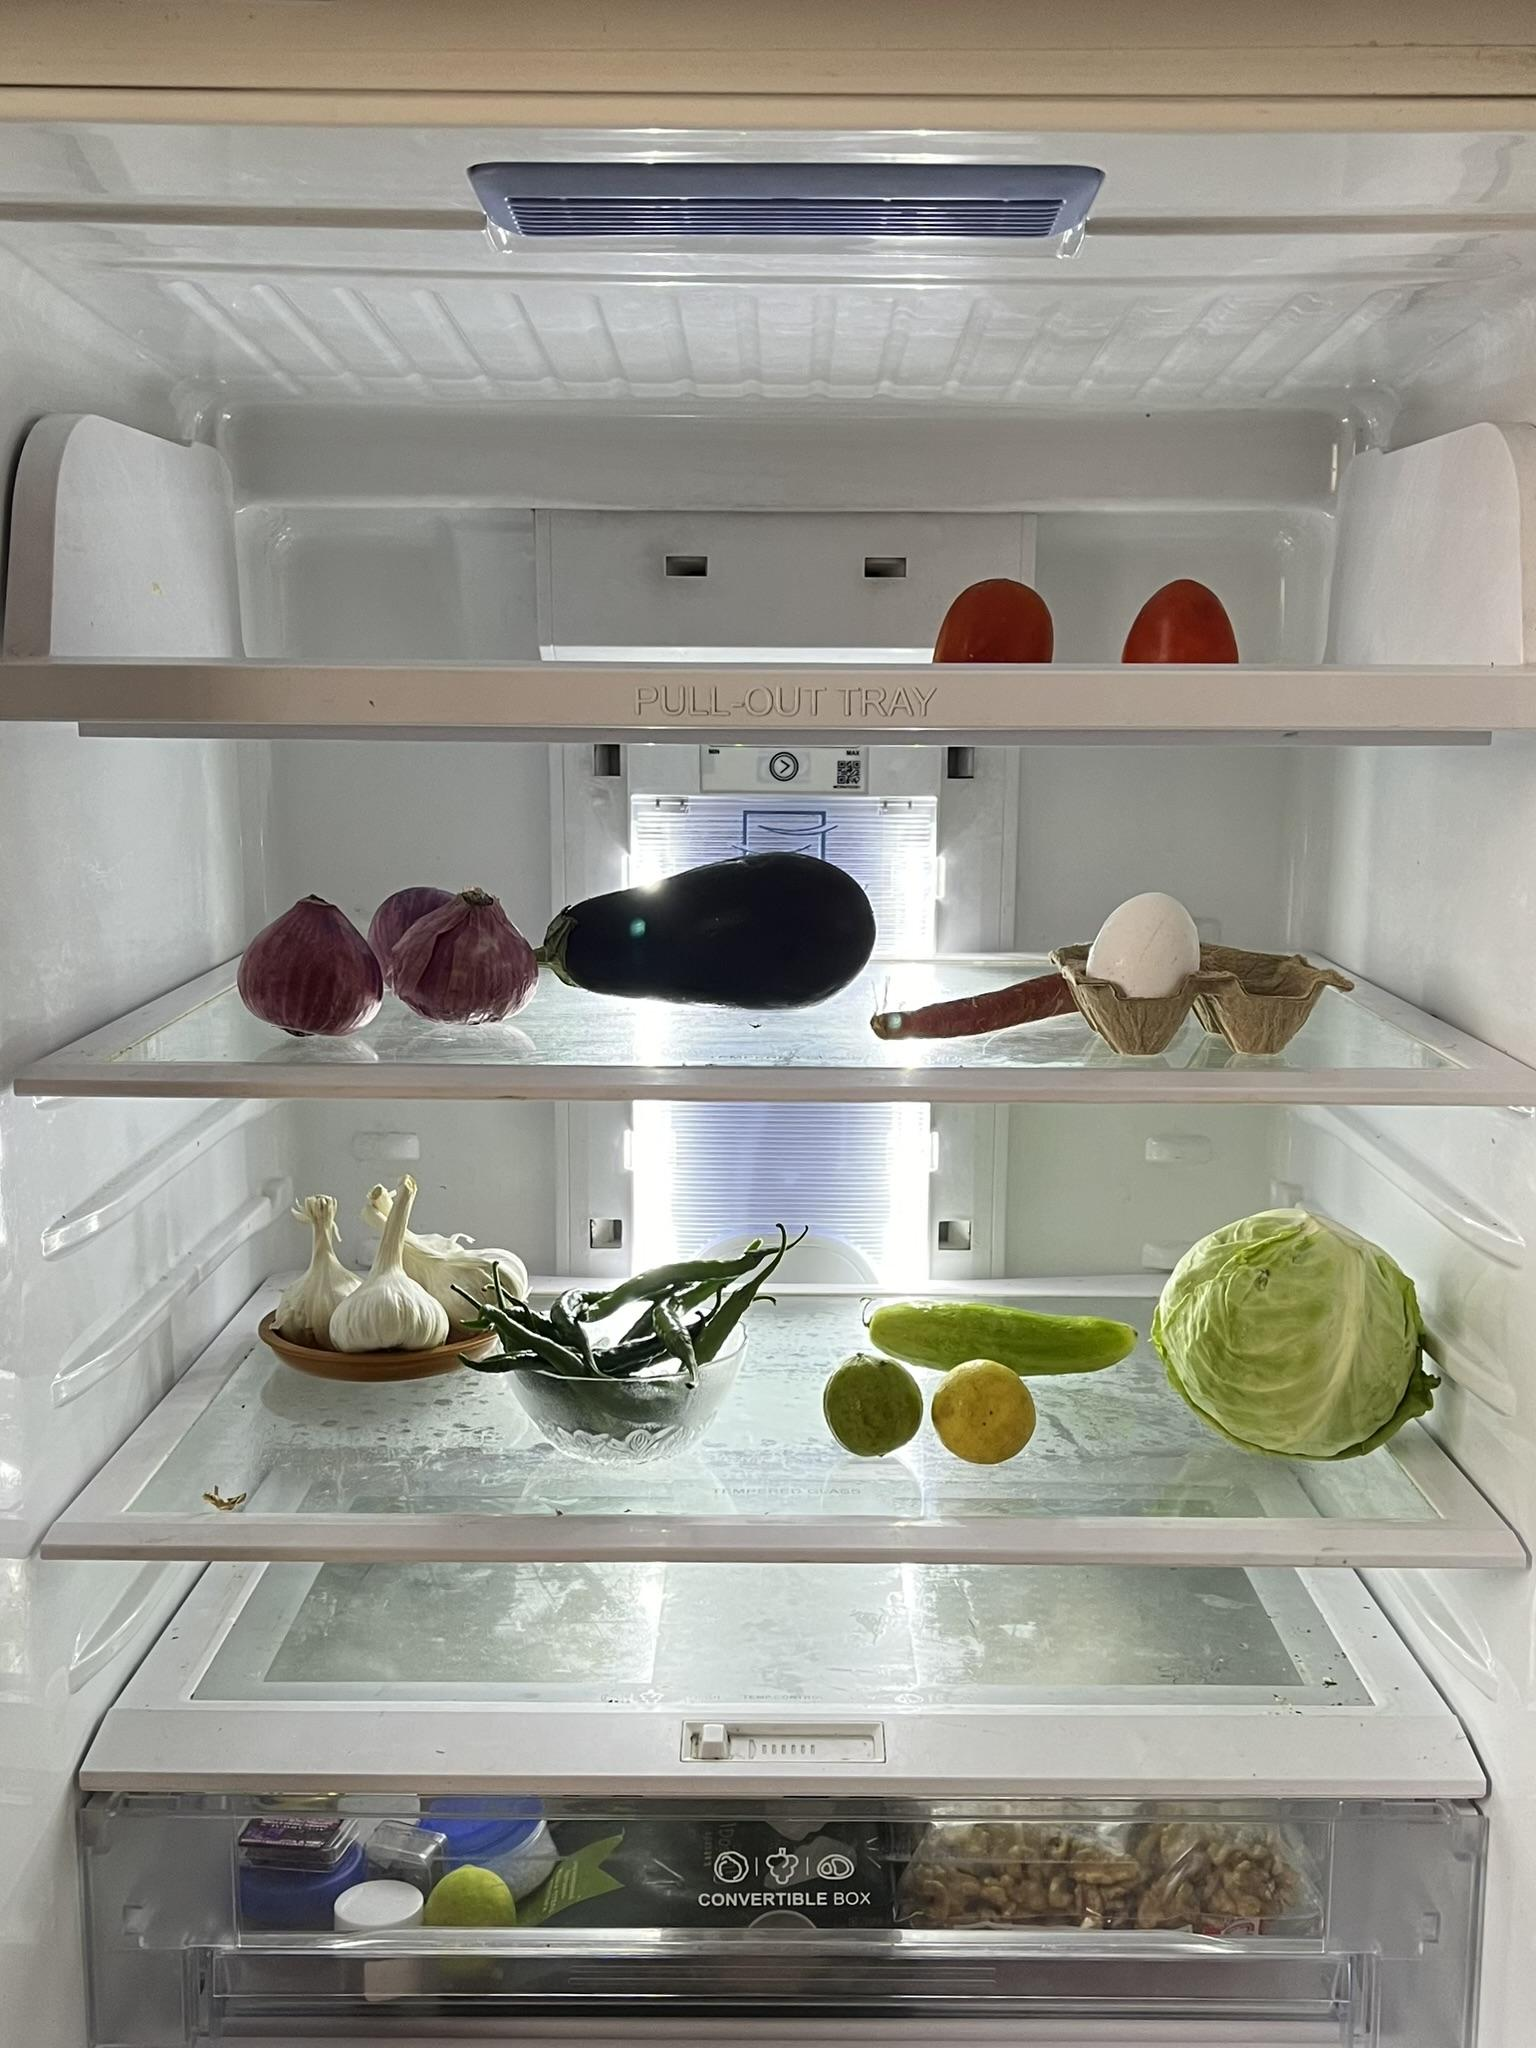bringal: (534, 847, 876, 1016)
cabbage: (1160, 1200, 1444, 1459)
carrots: (873, 959, 1076, 1047)
chillies: (453, 1253, 787, 1447)
cucumber: (854, 1300, 1147, 1384)
egg: (1091, 880, 1210, 1056)
garlic: (253, 1171, 537, 1371)
lemon: (813, 1347, 926, 1471), (923, 1356, 1050, 1463)
onion: (366, 866, 541, 1037), (234, 887, 397, 1043)
tomato: (1120, 574, 1247, 669), (941, 574, 1057, 660)
